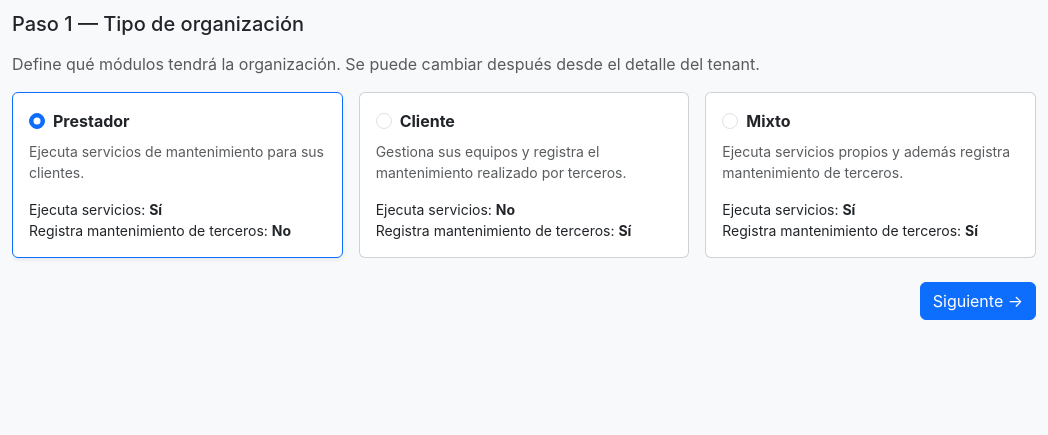
it: StepTenantType › shows the notice for Mixto without the required-data note
The width and height of the screenshot is (1048, 435).
Click the radio button labelled "Mixto": click(730, 121) [722, 113, 738, 129]
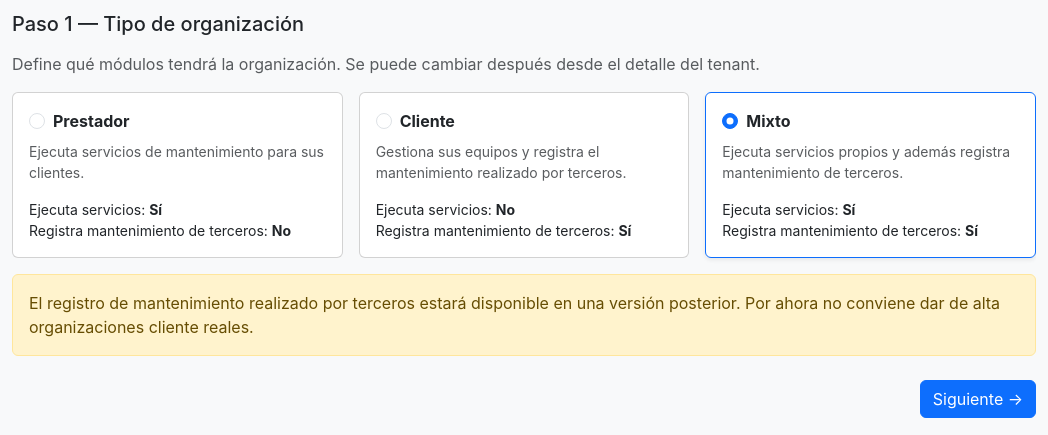
Result: the text "versión posterior" is shown at [29, 293, 1000, 337]
